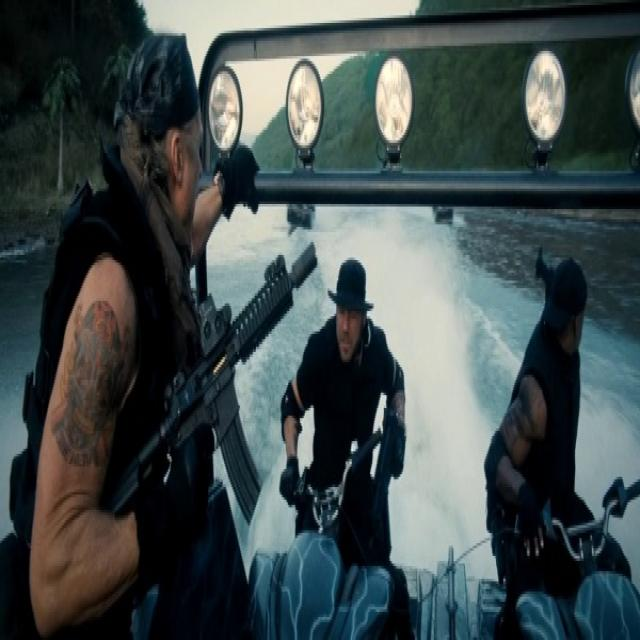rifle: (109, 241, 321, 548)
